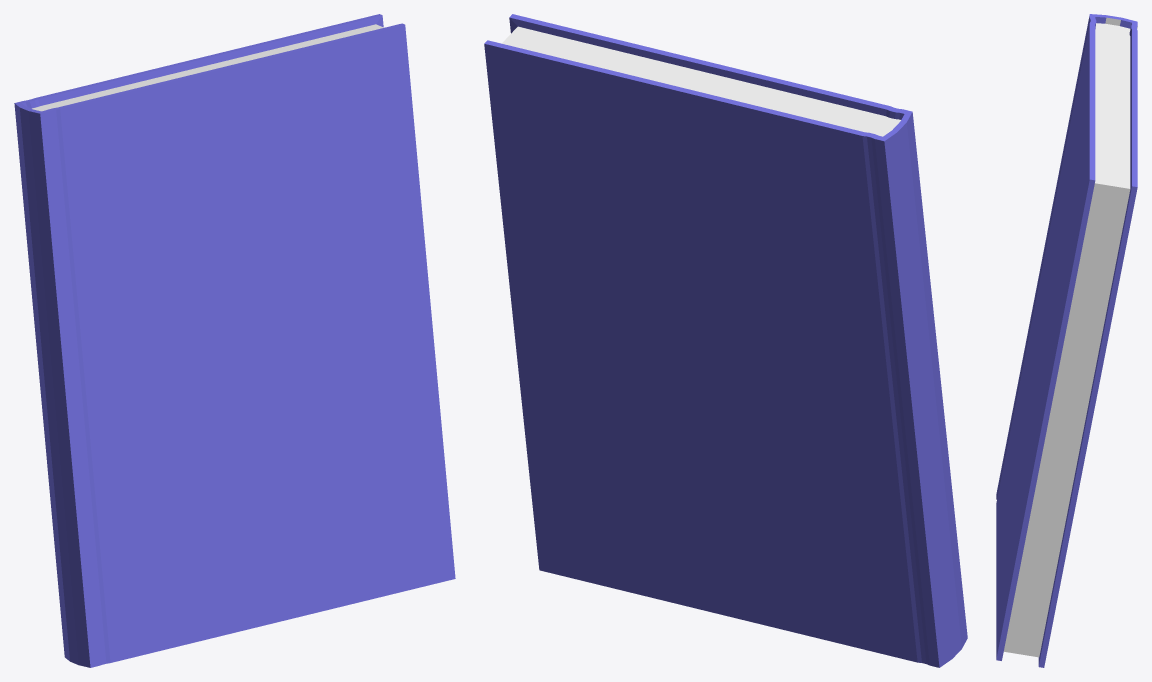
3 views of the same model, side by side, from view 1: azimuth 30°, elevation 25°; view 2: azimuth 150°, elevation 25°; view 3: azimuth 270°, elevation 25° (orthographic). The views are drawn at different scales.
Parts seen in each view (by area): view 1: Plane_0, Plane_1; view 2: Plane_0, Plane_1; view 3: Plane_0, Plane_1.
Part boxes in pixels (x1=…): Plane_0: x1=14, y1=14, x2=455, y2=667; Plane_1: x1=32, y1=24, x2=383, y2=111; Plane_0: x1=484, y1=14, x2=967, y2=667; Plane_1: x1=502, y1=26, x2=900, y2=136; Plane_0: x1=996, y1=14, x2=1137, y2=667; Plane_1: x1=1004, y1=17, x2=1130, y2=657.
Size of the model in its own units: 0.7338 by 1 by 0.2626.
